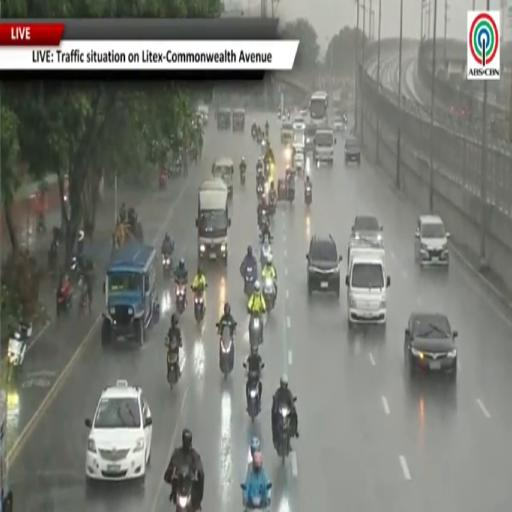bus: (309, 91, 328, 124)
car: (85, 380, 152, 483), (405, 313, 458, 377), (306, 235, 342, 296), (415, 215, 449, 267), (351, 216, 383, 246), (345, 137, 360, 165), (306, 124, 317, 151), (281, 122, 293, 145), (198, 105, 209, 125), (333, 116, 346, 132), (293, 118, 305, 132)
motorcycle: (8, 322, 32, 381), (173, 469, 197, 511), (277, 406, 290, 465), (220, 326, 234, 377), (165, 339, 179, 390), (247, 373, 260, 421), (57, 286, 73, 316), (249, 314, 263, 346), (243, 266, 257, 297), (263, 278, 275, 312), (244, 496, 270, 511), (48, 239, 59, 273), (194, 291, 205, 324), (175, 281, 186, 314), (261, 236, 272, 267), (79, 284, 88, 315), (258, 207, 269, 231), (162, 253, 172, 277), (286, 176, 294, 203), (37, 213, 46, 233), (269, 192, 276, 216), (304, 186, 312, 205), (159, 172, 167, 189), (256, 183, 264, 199), (240, 167, 246, 185), (265, 163, 270, 180), (256, 131, 263, 143), (252, 123, 257, 139), (265, 124, 269, 138), (278, 111, 281, 119)
truck: (101, 242, 159, 345), (196, 179, 230, 265), (0, 391, 18, 511)
